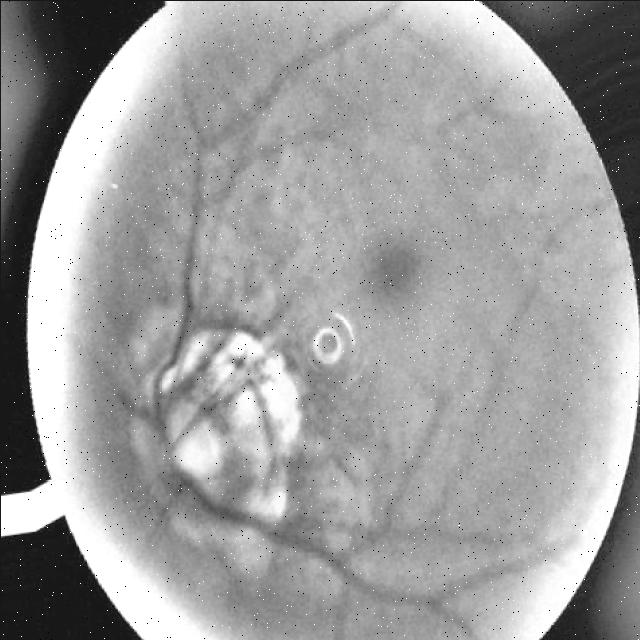Optic Disk: (156, 329, 301, 519)
